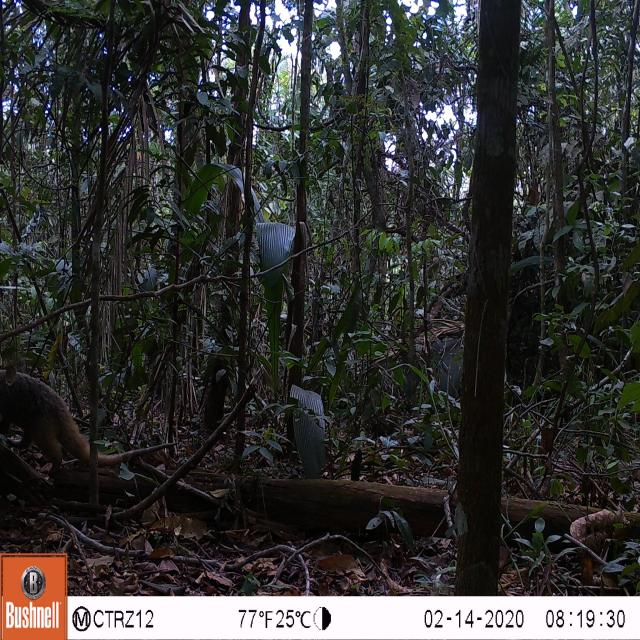Southern Tamandua: (0, 341, 195, 490)
